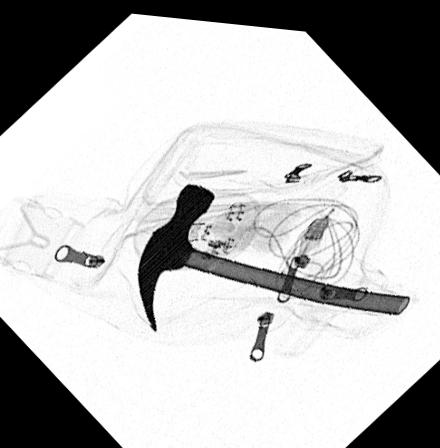Hammer: (136, 179, 408, 329)
